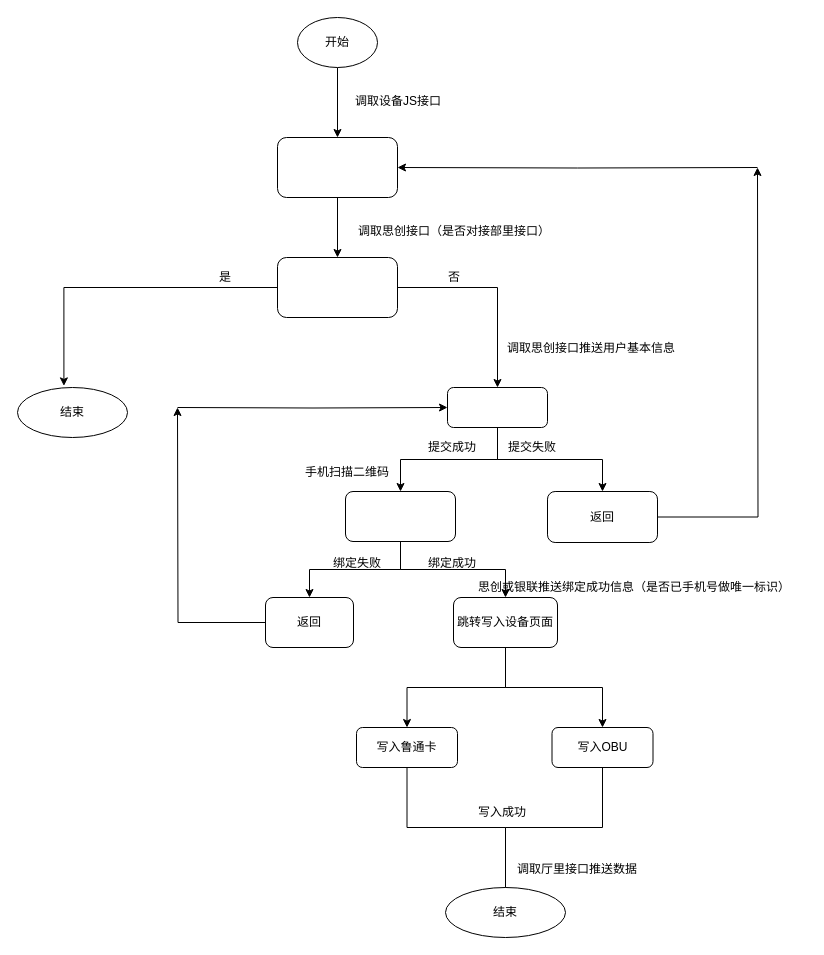
This 824x955 diagram has some shape labels left out. Here are the shapes that lost their labels. From the top down, the centre of each, then its label:
At point (337, 167): "读取身份证/行驶证信息".
At point (337, 287): "初始化基本信息页面，校验是否已发行".
At point (497, 407): "提交用户基本信息".
At point (400, 516): "绑定工行信用卡".
